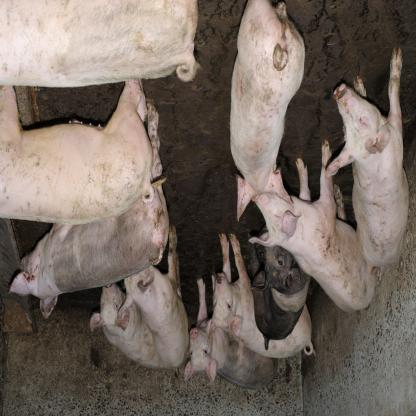boar: (0, 1, 411, 392)
